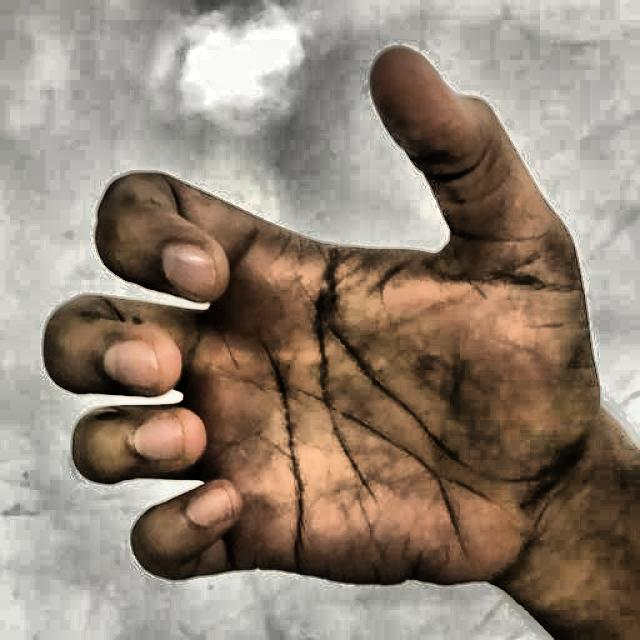Ja: (33, 15, 614, 640)
